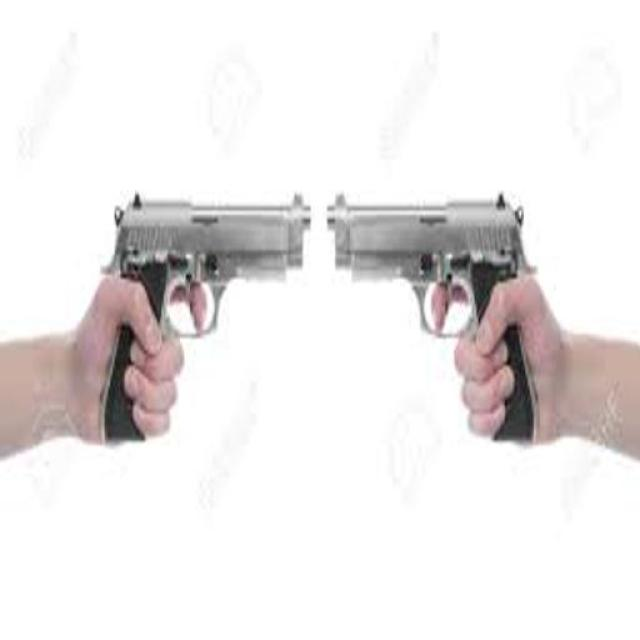pistol: (95, 170, 310, 472), (329, 179, 538, 453)
